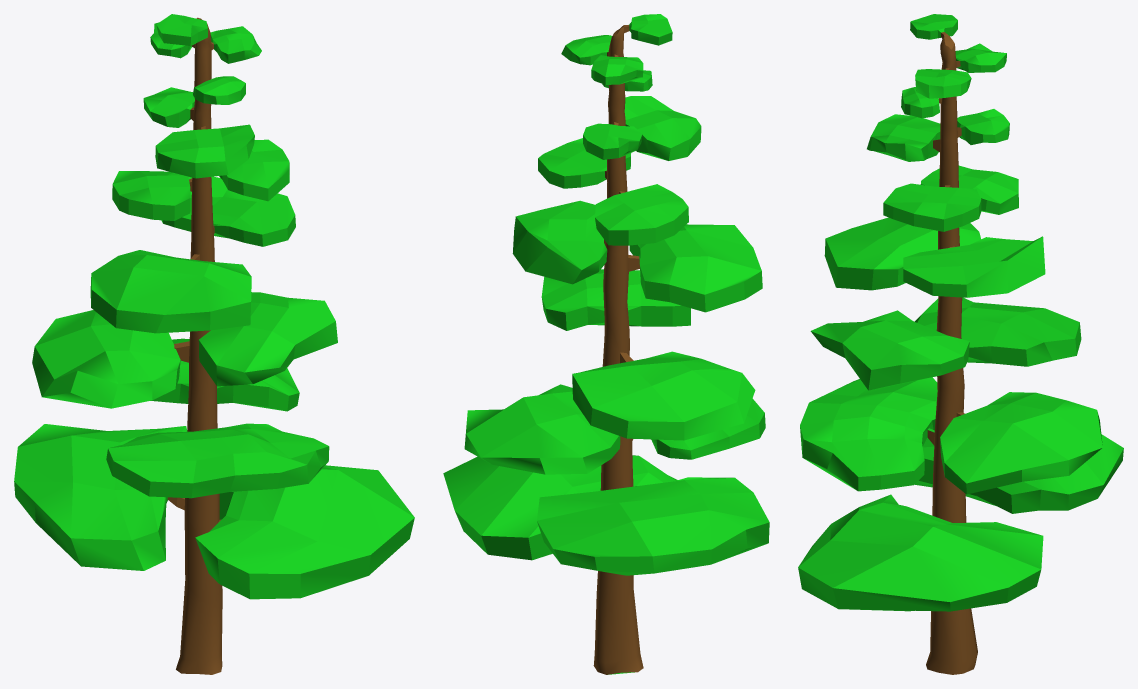
File: baum_c002.FBX
3 views of the same model, side by side, from view 1: azimuth 30°, elevation 25°; view 2: azimuth 150°, elevation 25°; view 3: azimuth 270°, elevation 25° (orthographic). The views are drawn at different scales.
Parts seen in each view (by area): view 1: Baum_C002; view 2: Baum_C002; view 3: Baum_C002.
Part boxes in pixels (x1,y1,x2,y2): Baum_C002: [14, 14, 414, 674]; Baum_C002: [443, 14, 769, 674]; Baum_C002: [798, 14, 1123, 674].
Bounding box in the file's own units: 30.04 × 57.59 × 26.85.
